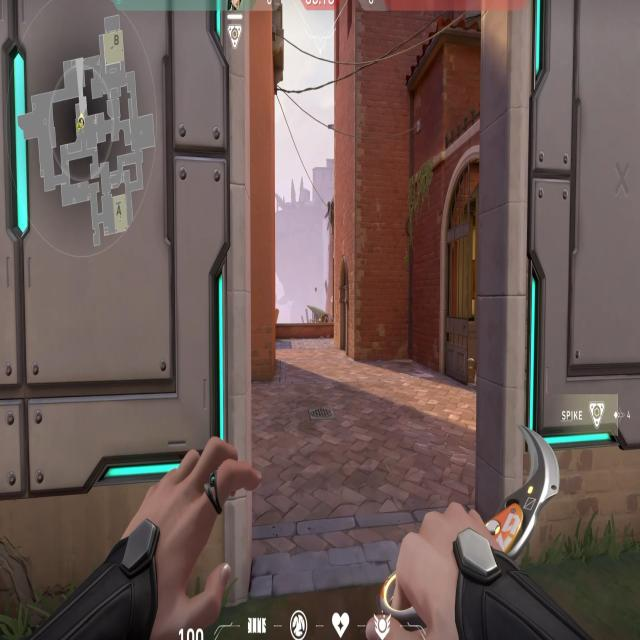Mid_Wall: (1, 0, 228, 497)
